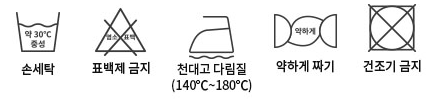KR_gentle_wring: (268, 11, 341, 51)
KR_hand_wash_30_neutral: (14, 7, 62, 57)
KR_no_chlorine_bleach: (93, 5, 150, 58)
KR_no_tumble_dry: (365, 2, 420, 56)
